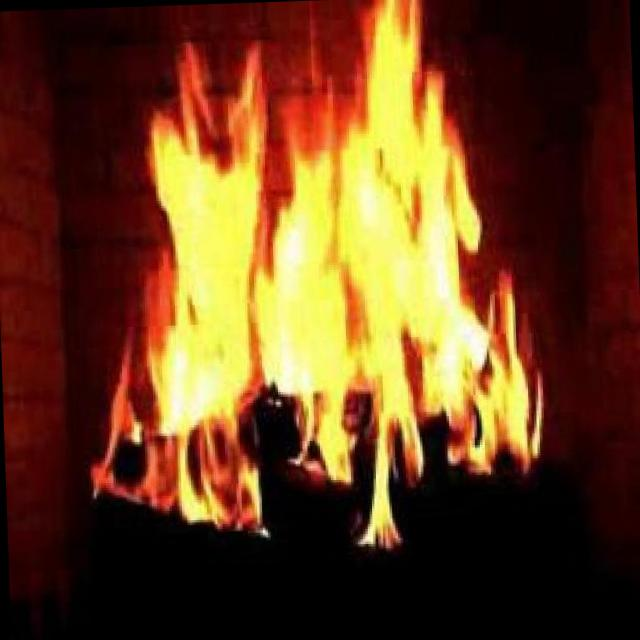Fire: (58, 0, 553, 572)
